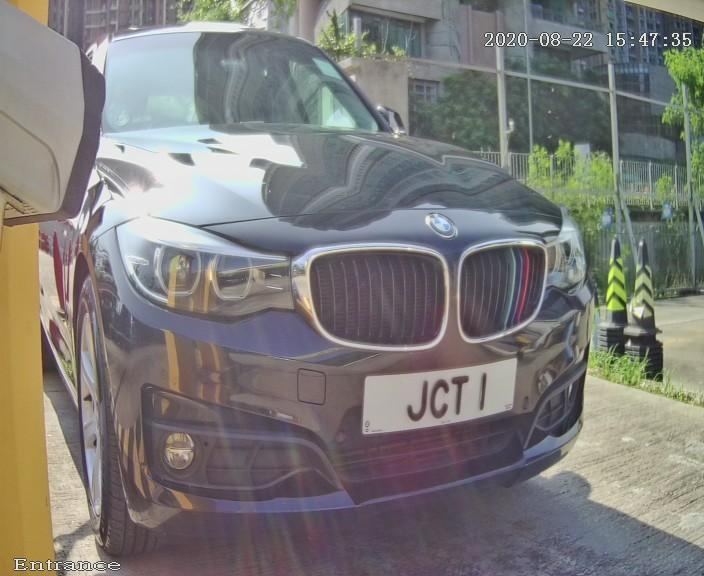Car: (10, 3, 639, 564)
License Plate: (344, 340, 539, 449)
